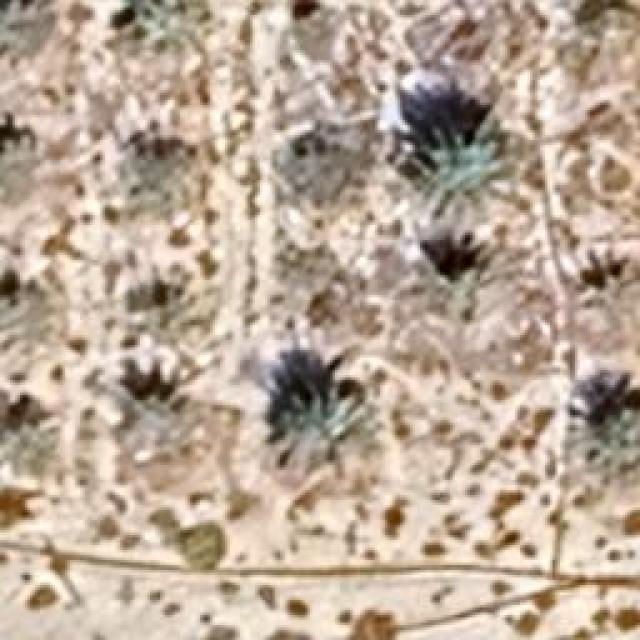PalmTree: (65, 99, 608, 428), (77, 42, 601, 99), (268, 368, 362, 468), (115, 137, 217, 225), (272, 116, 368, 207), (406, 120, 502, 200), (115, 384, 203, 466), (270, 240, 352, 328), (577, 244, 640, 334), (124, 278, 208, 342), (124, 0, 202, 68), (0, 392, 62, 477), (0, 276, 52, 368), (432, 247, 498, 315), (0, 122, 42, 207), (0, 0, 55, 62)
